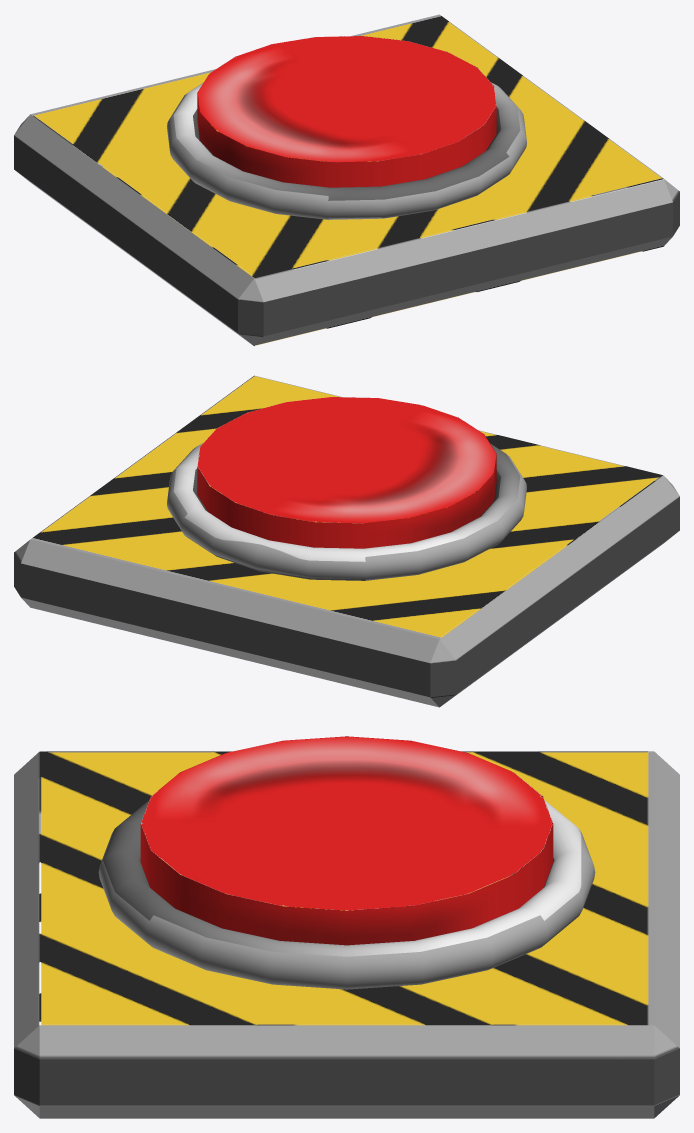
The model's file is dangerBotton.fbx.
The picture shows the model from 3 angles, top to bottom: view 1: azimuth 30°, elevation 25°; view 2: azimuth 150°, elevation 25°; view 3: azimuth 270°, elevation 25°; orthographic projection. The views are drawn at different scales.
Visible parts, largest first — view 1: pCube1, pCylinder1, pTorus1; view 2: pCube1, pCylinder1, pTorus1; view 3: pCube1, pCylinder1, pTorus1.
Boxes of the visible parts, x1,y1,x2,y2 form: pCube1: (14, 14, 679, 346); pCylinder1: (197, 36, 496, 187); pTorus1: (167, 82, 526, 219); pCube1: (14, 375, 679, 707); pCylinder1: (197, 397, 496, 548); pTorus1: (167, 443, 526, 580); pCube1: (14, 751, 679, 1118); pCylinder1: (140, 736, 553, 945); pTorus1: (98, 800, 595, 989).
Size of the model in its own units: 2.43 by 0.6062 by 2.31.
Materials: 1 (1 with a texture image).
